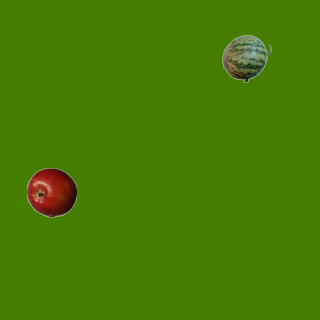Apple Braeburn: (26, 167, 76, 217)
Watermelon: (221, 33, 271, 83)
